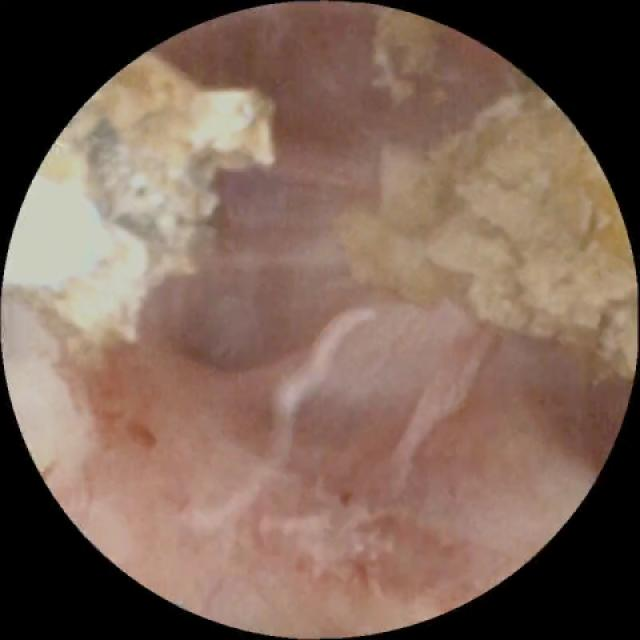stone: (339, 94, 630, 377), (19, 58, 274, 367), (373, 14, 442, 108)
